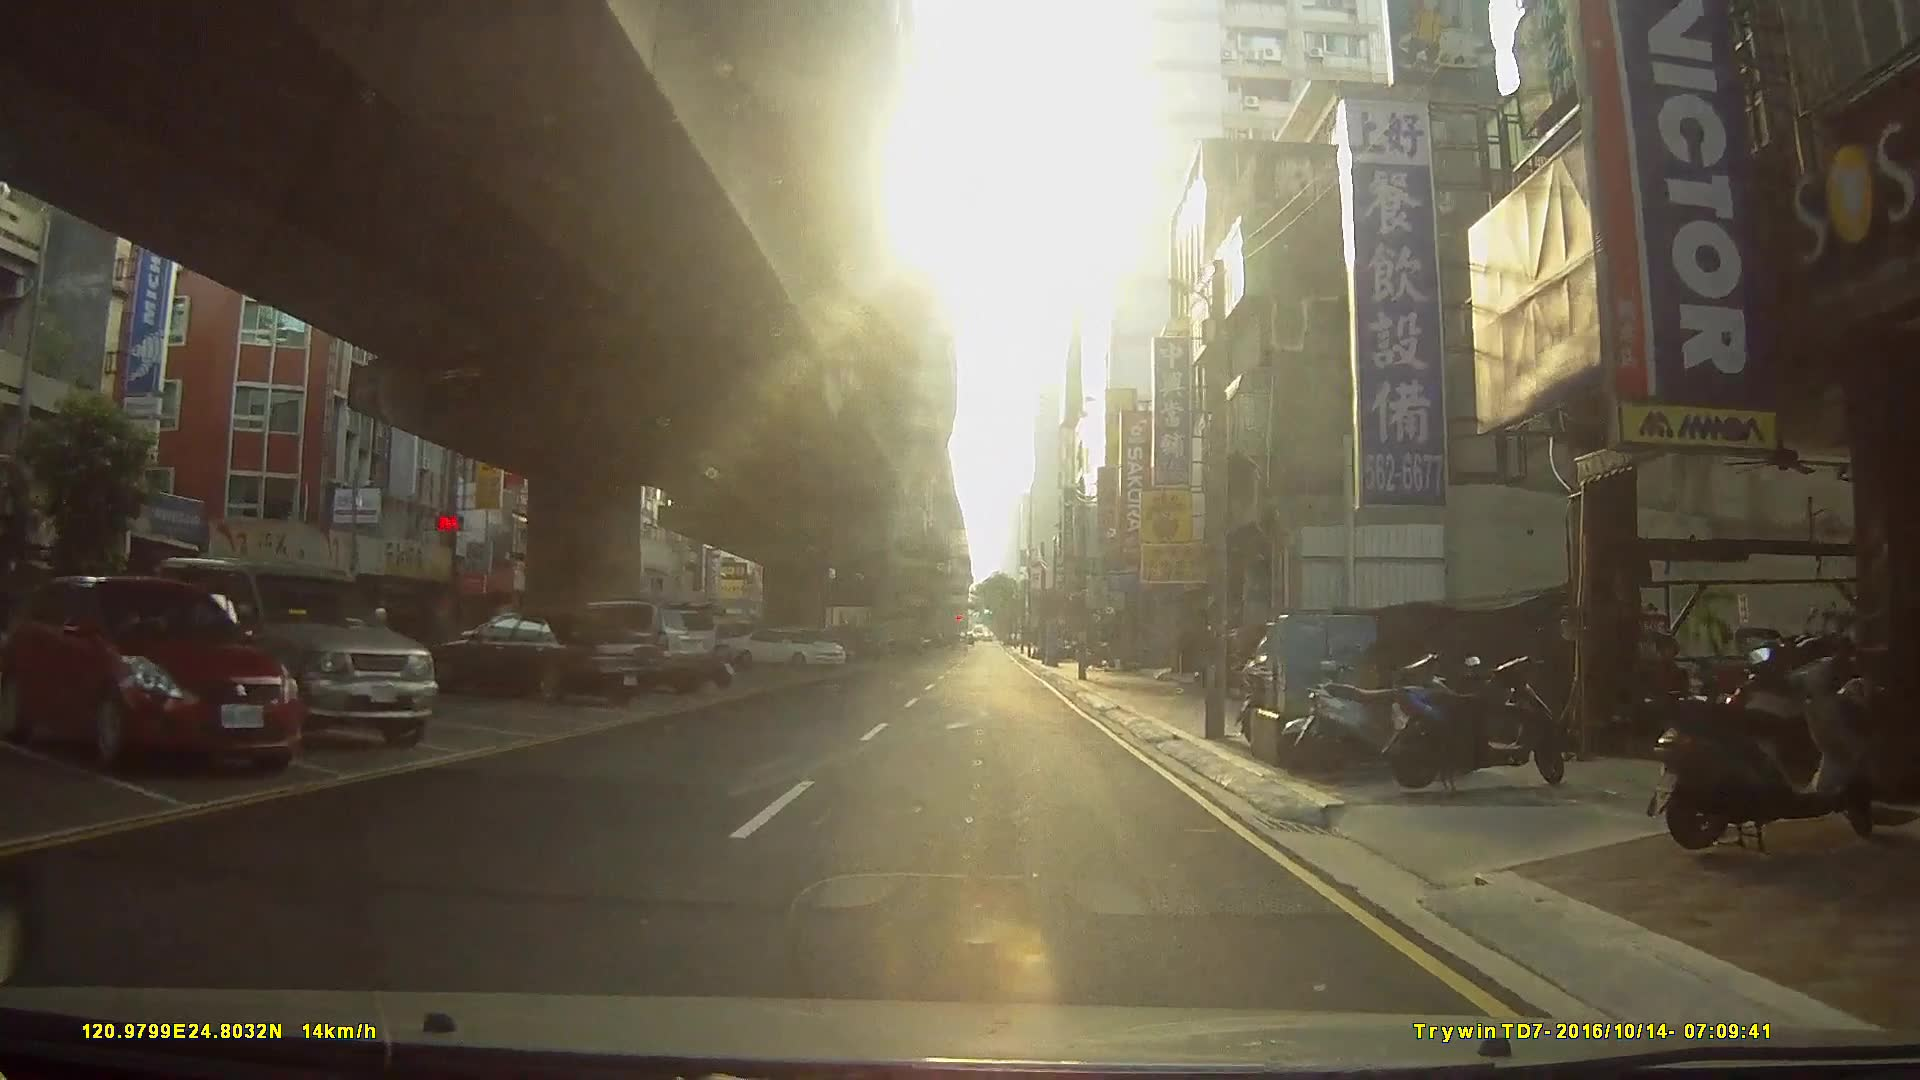vehicle: (0, 574, 305, 773), (152, 553, 438, 754), (435, 611, 669, 705), (553, 596, 717, 694), (725, 626, 848, 670)
